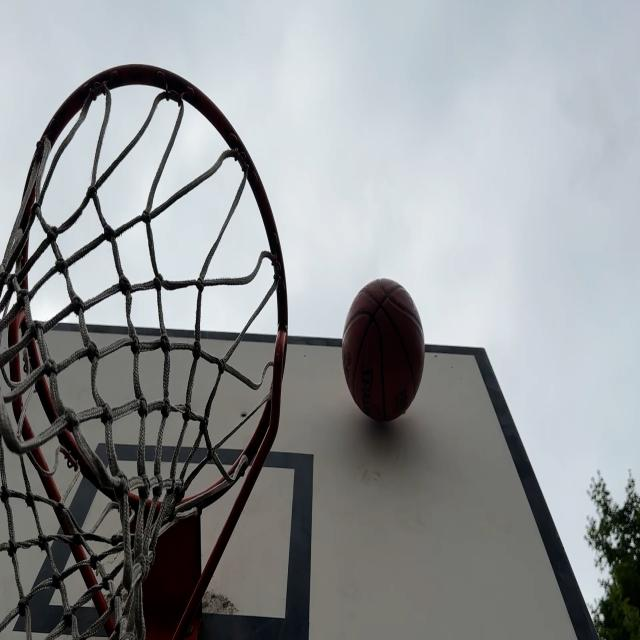rebound_hit: (342, 277, 426, 438)
